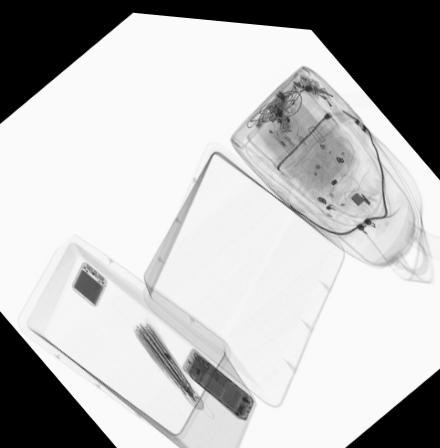Lighter: (254, 101, 272, 124)
